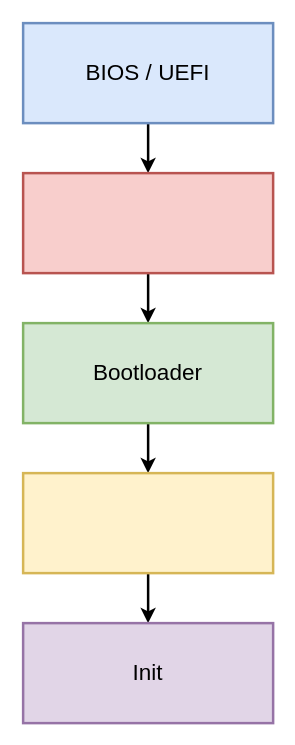
This 295x745 diagram has some shape labels left out. The shapes that lost their labels are listed below. From the top down, each one's box as (x1, y1, x2, y2) in pixels, then its label:
(21, 171, 274, 274): MBR / GPT
(21, 471, 274, 574): Kernel
